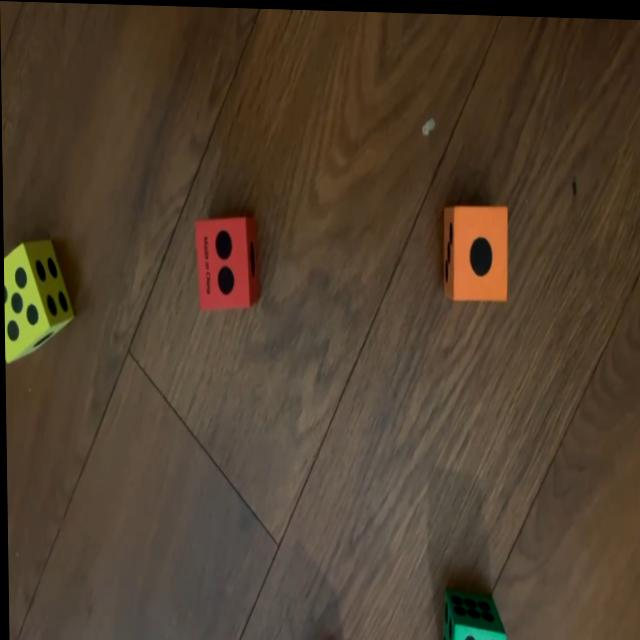red_block: (193, 211, 257, 310)
